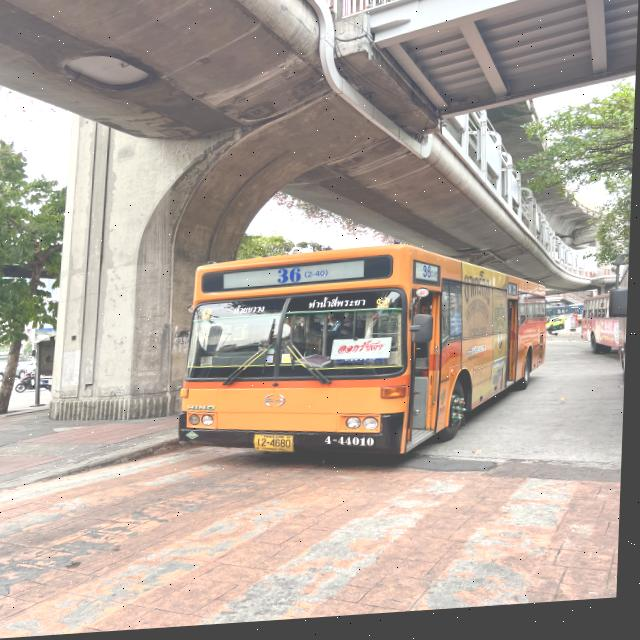BMTA-bus: (180, 242, 554, 479)
Bus-Line-Number: (266, 265, 339, 291), (422, 265, 446, 288)
Destination-Sign-Extra-Bus: (334, 340, 393, 368)
